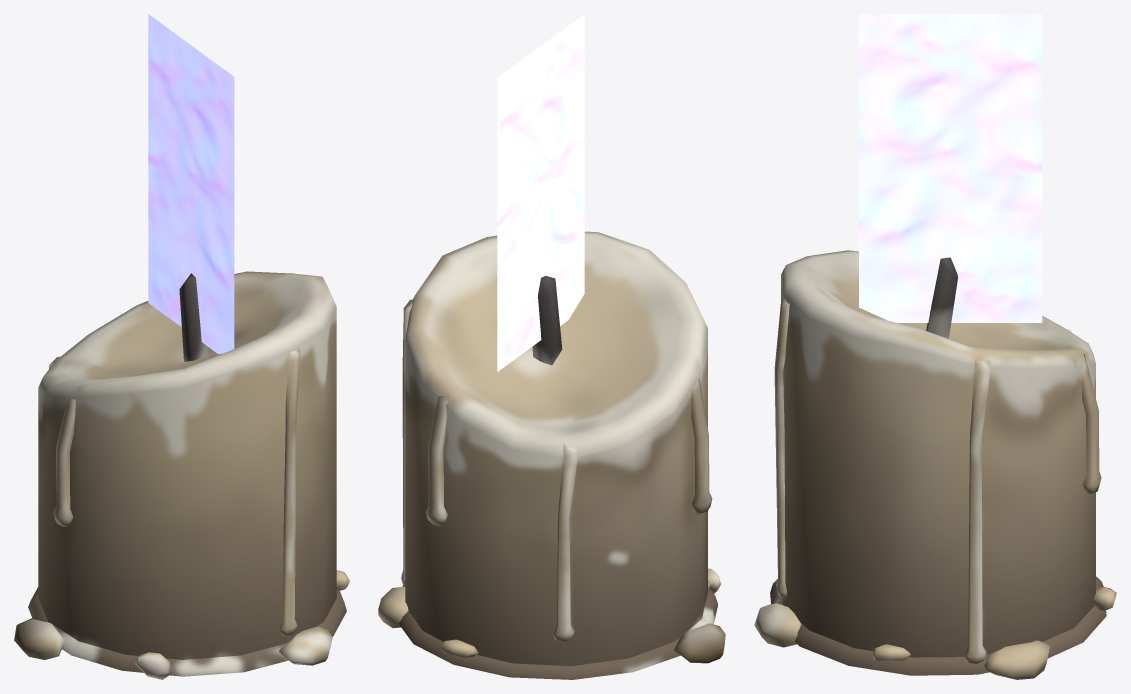
File: SM_Candle_01.fbx
3 views of the same model, side by side, from view 1: azimuth 30°, elevation 25°; view 2: azimuth 150°, elevation 25°; view 3: azimuth 270°, elevation 25° (orthographic). The views are drawn at different scales.
Visible parts, largest first — view 1: SM_Candle_01_LOD0; view 2: SM_Candle_01_LOD0; view 3: SM_Candle_01_LOD0.
Boxes of the visible parts, x1=… form: SM_Candle_01_LOD0: x1=14, y1=14, x2=349, y2=679; SM_Candle_01_LOD0: x1=378, y1=14, x2=725, y2=679; SM_Candle_01_LOD0: x1=754, y1=14, x2=1116, y2=679.
Bounding box in the file's own units: 7.81 × 7.6 × 13.98.
2 materials, 1 textured.
